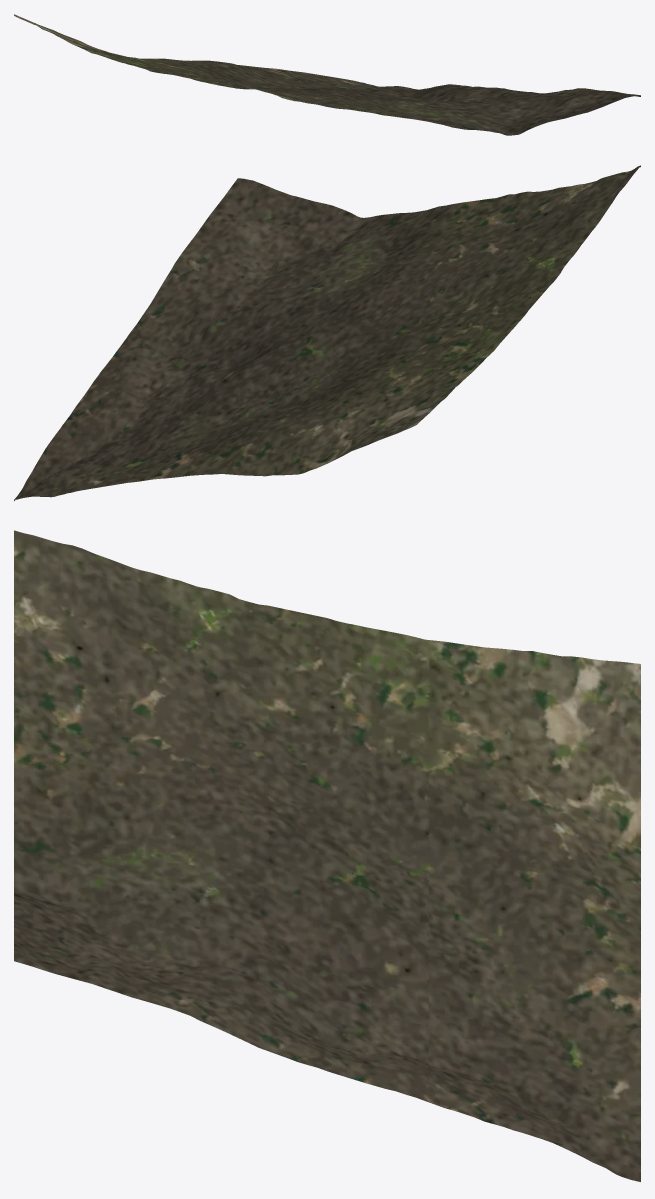
3 renders of one model, top to bottom at view 1: azimuth 30°, elevation 25°; view 2: azimuth 150°, elevation 25°; view 3: azimuth 270°, elevation 25°, orthographic. The views are drawn at different scales.
Size of the model in its own units: 250 by 160 by 241.
Materials: 1 (1 with a texture image).
